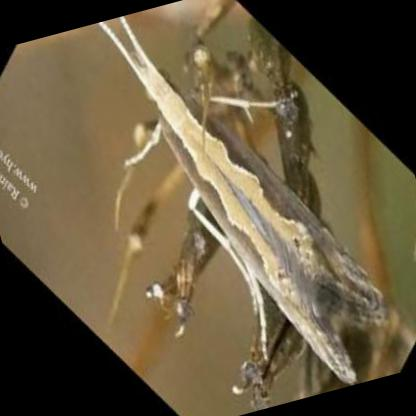plutella: (106, 16, 403, 383)
